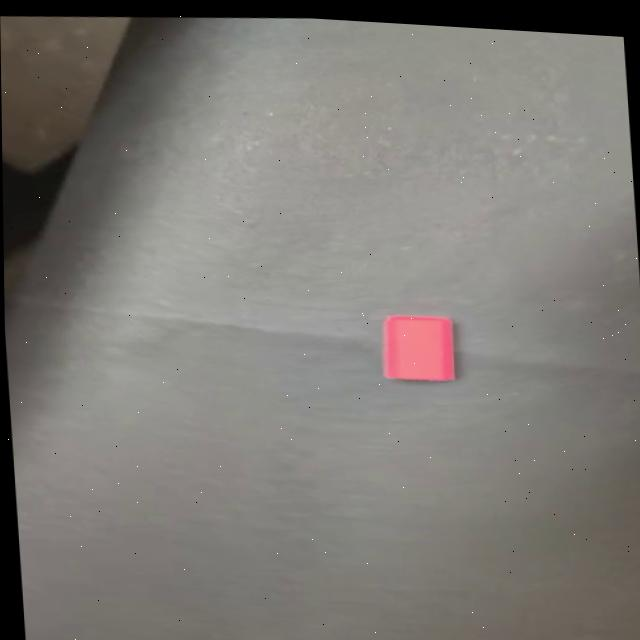red block: (380, 312, 458, 386)
